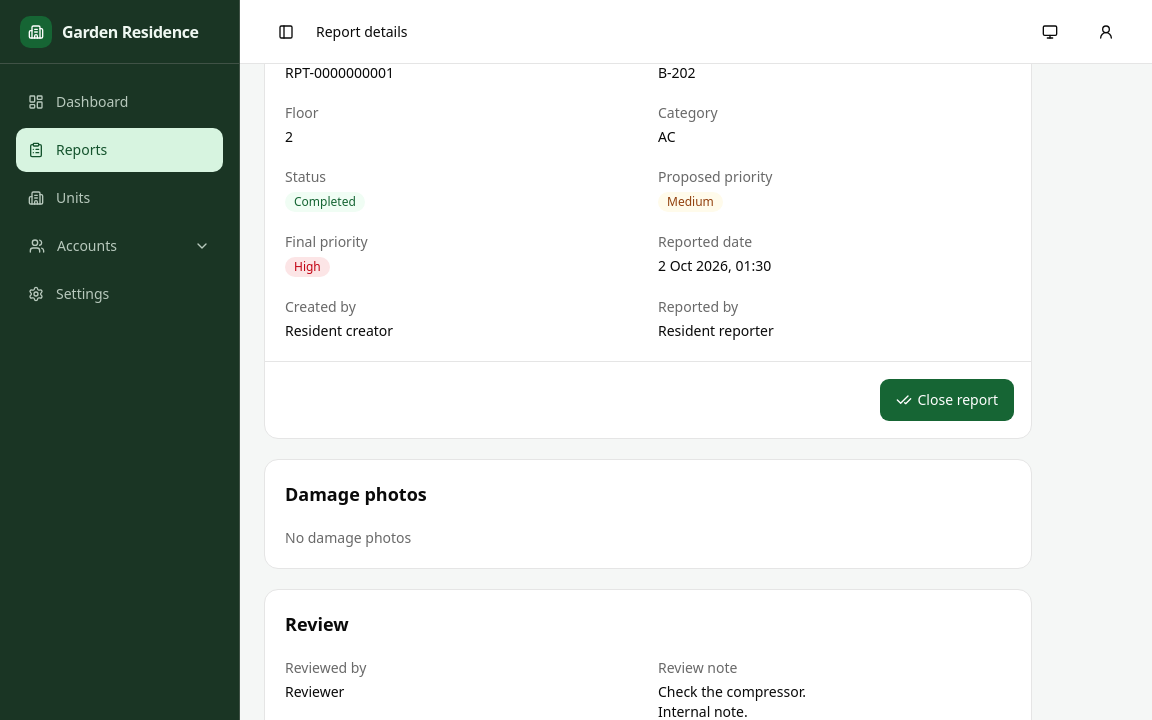
it: closes with no costs or repair photos, updates audits, retains filters and focuses heading
(page scrolled)
Click the button "Close report" at (947, 400), box [878, 378, 1015, 422]
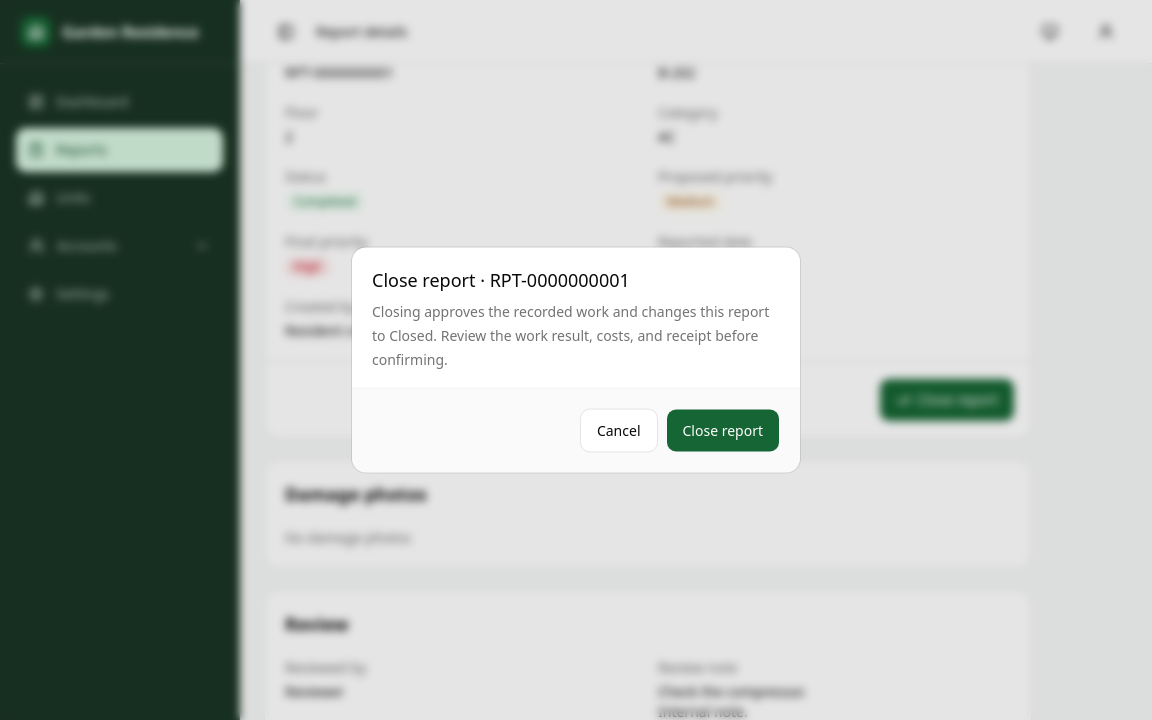
Click the button "Close report" at (723, 430), box [666, 408, 780, 452]
(page scrolled)
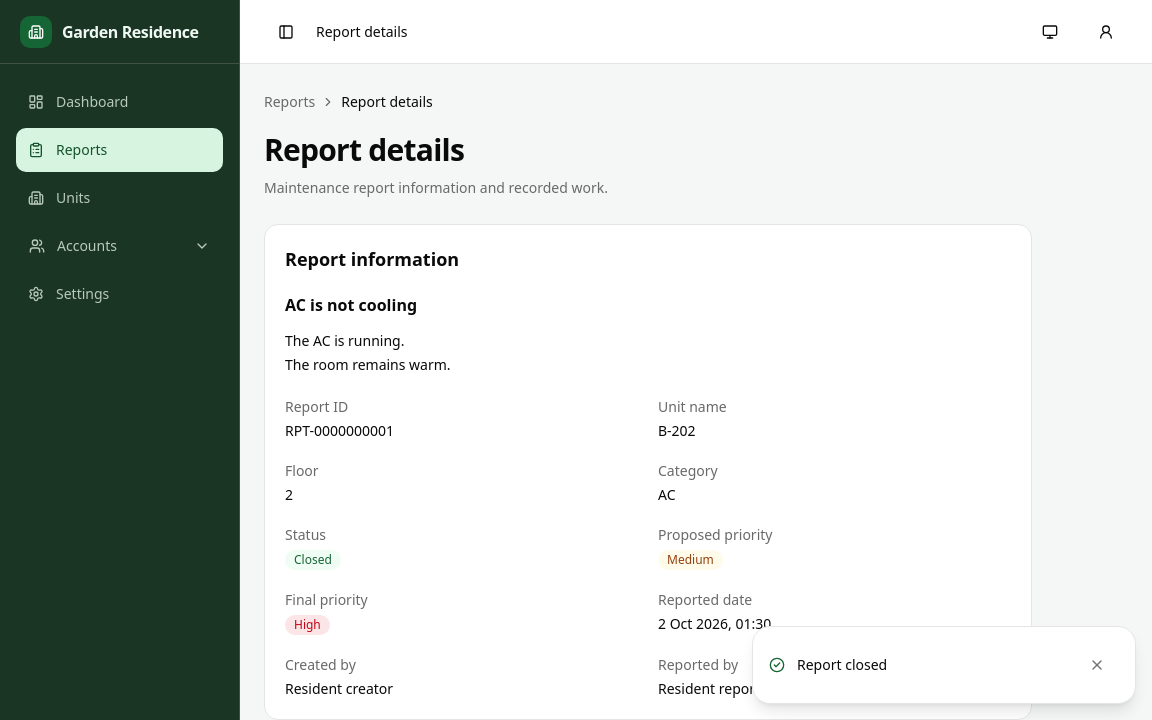
expect the heading "Close report · RPT-0000000001" is gone: met
expect the icon "Closed" is shown: met, box [285, 550, 341, 570]
expect the heading "Report closed" is shown: met, box [797, 655, 887, 674]
